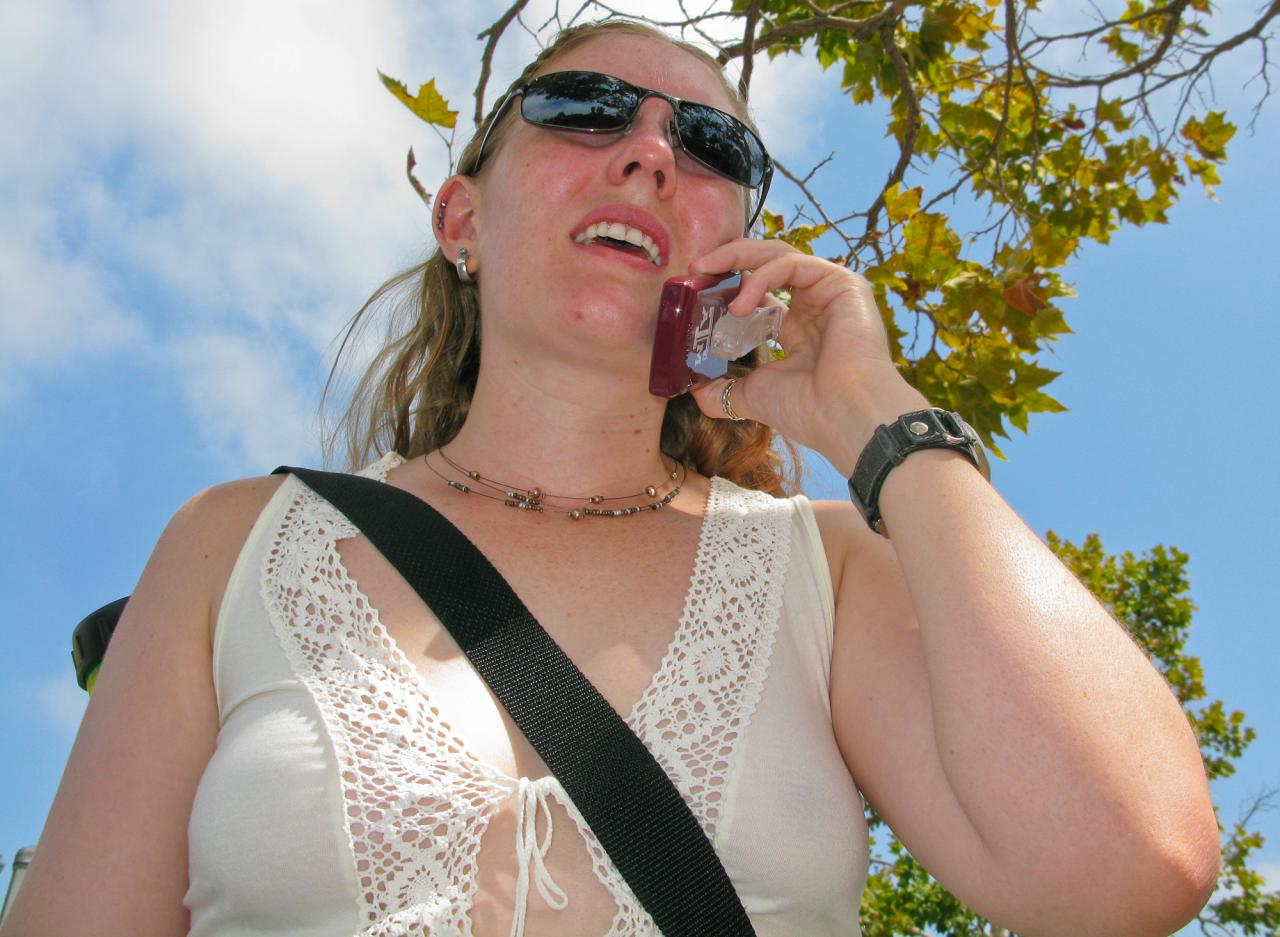phone: (647, 249, 785, 413)
talk: (500, 72, 876, 446)
